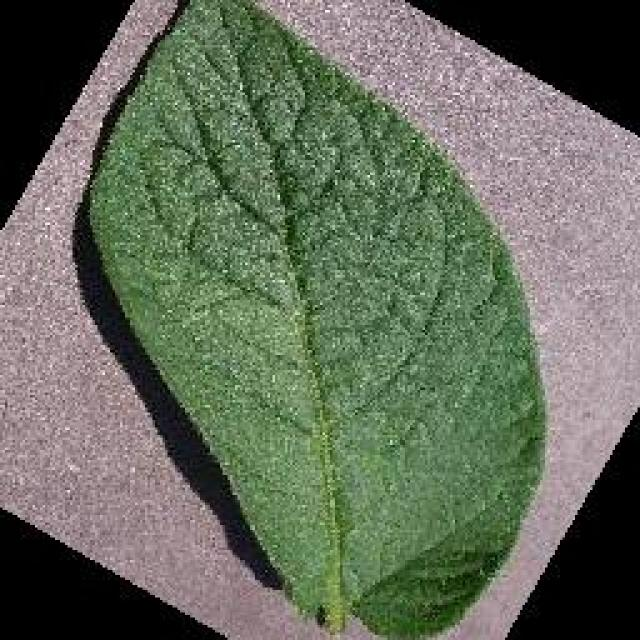Potato___healthy: (77, 0, 551, 638)
